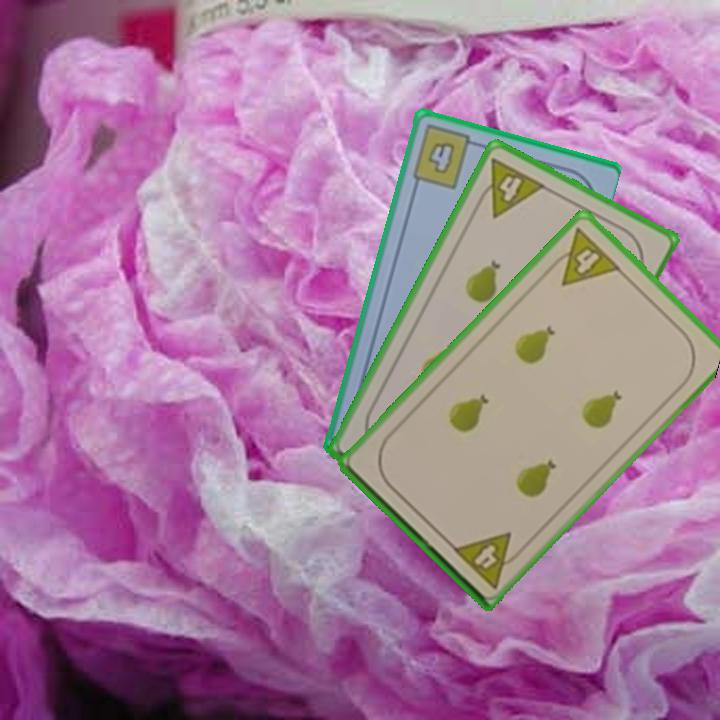4b: (408, 121, 483, 192)
4p: (543, 224, 624, 289), (471, 154, 549, 221), (448, 528, 527, 591)
